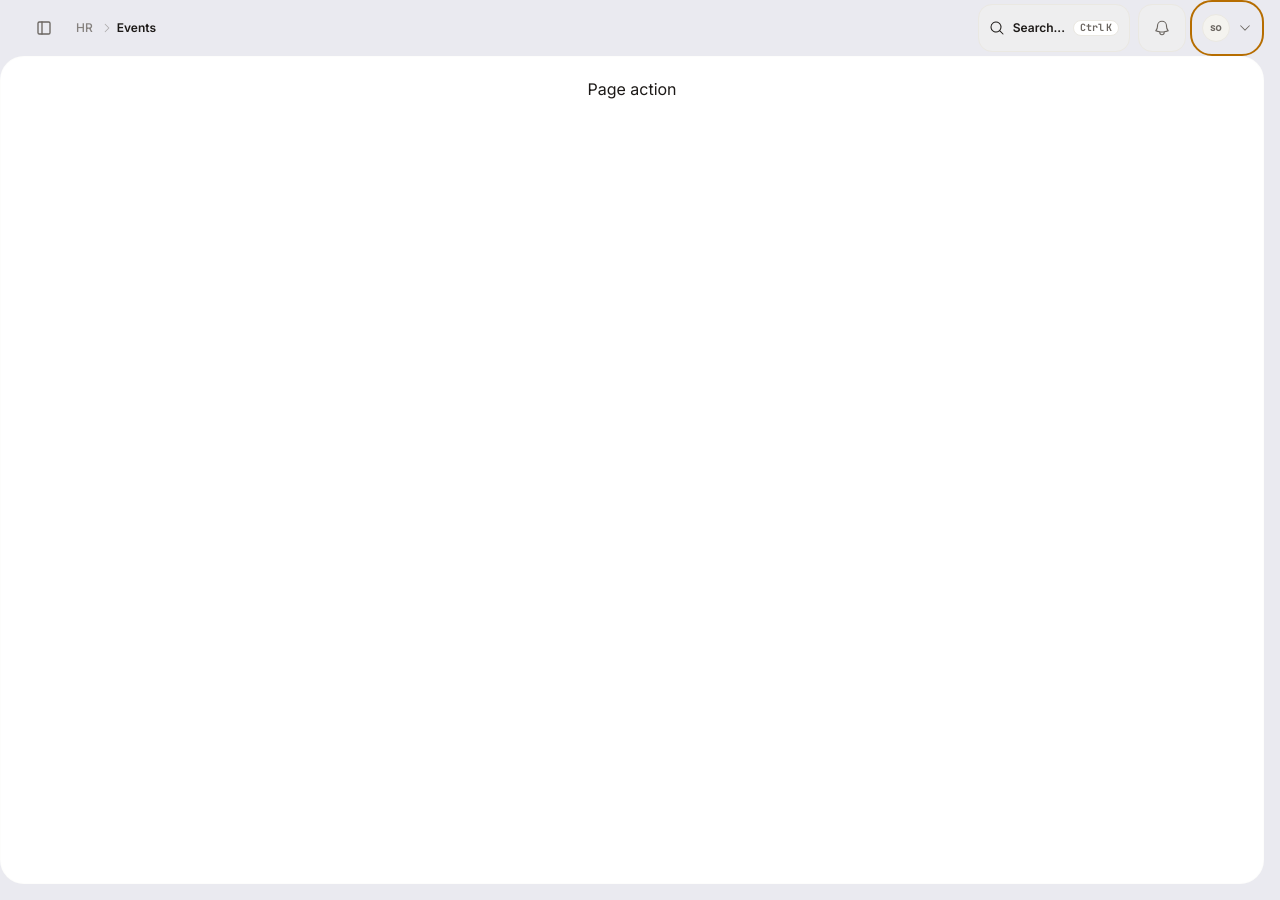
it: Dream shared header controls › preserves read-only profile controls without exposing settings
Click the button with aria-label "Profile menu: Synthetic Operator 00286": (1227, 28) [1194,4,1260,52]
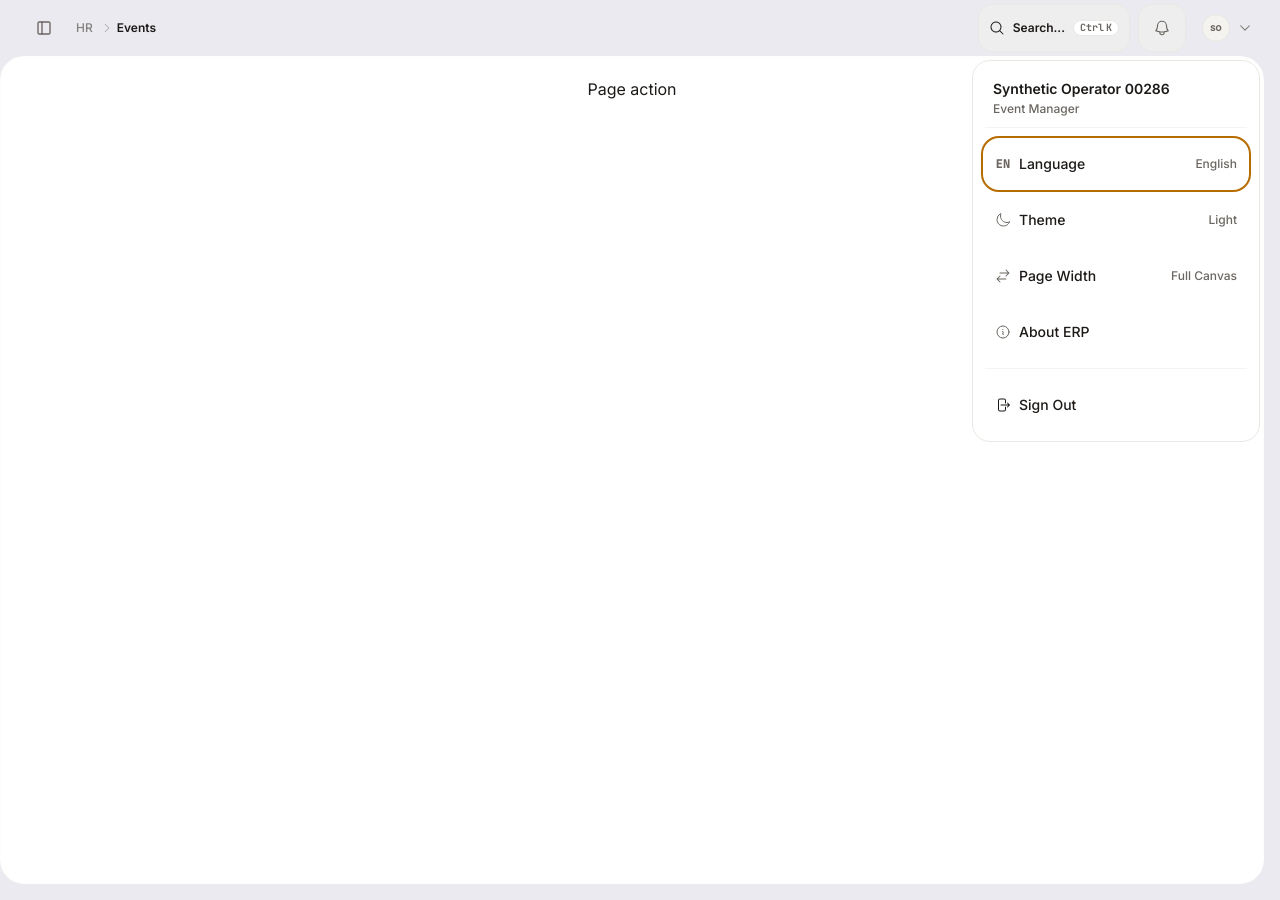
Check: the button "EN Language English" is enabled, box [985,140,1247,188]
Check: the button "Sign Out" is enabled, box [985,381,1247,429]
